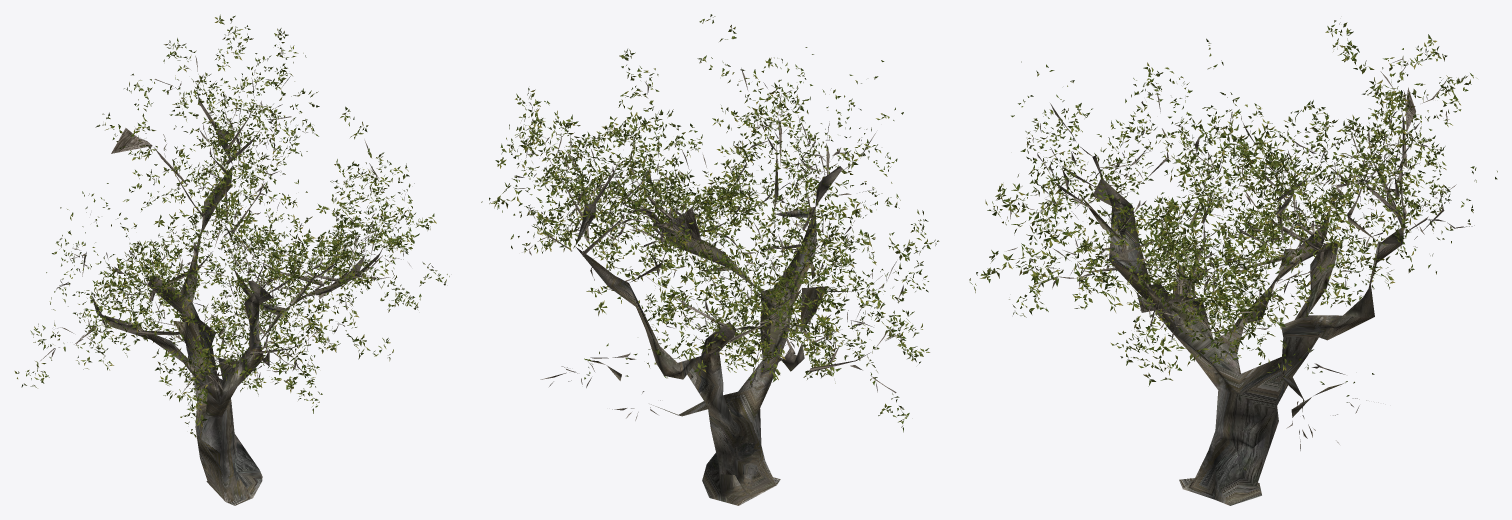
Rendered from island_tree_01.glb.
3 views of the same model, side by side, from view 1: azimuth 30°, elevation 25°; view 2: azimuth 150°, elevation 25°; view 3: azimuth 270°, elevation 25° (orthographic). The views are drawn at different scales.
Parts seen in each view (by area): view 1: island_tree_01_LOD0; view 2: island_tree_01_LOD0; view 3: island_tree_01_LOD0.
Boxes of the visible parts, box(x1,y1,x2,y2) form: island_tree_01_LOD0: box(14, 14, 449, 505); island_tree_01_LOD0: box(481, 14, 939, 505); island_tree_01_LOD0: box(969, 20, 1497, 505).
Bounding box in the file's own units: 4.73 × 5.01 × 4.75.
3 materials, 3 textured.
